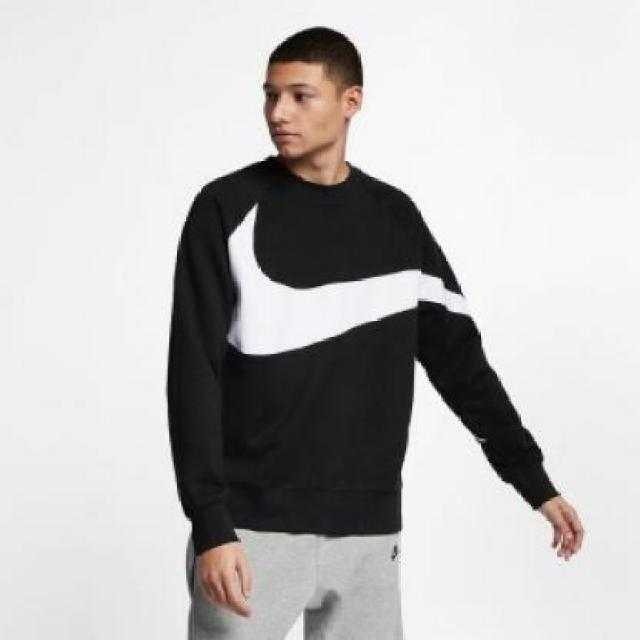Nike: (220, 201, 477, 354)
